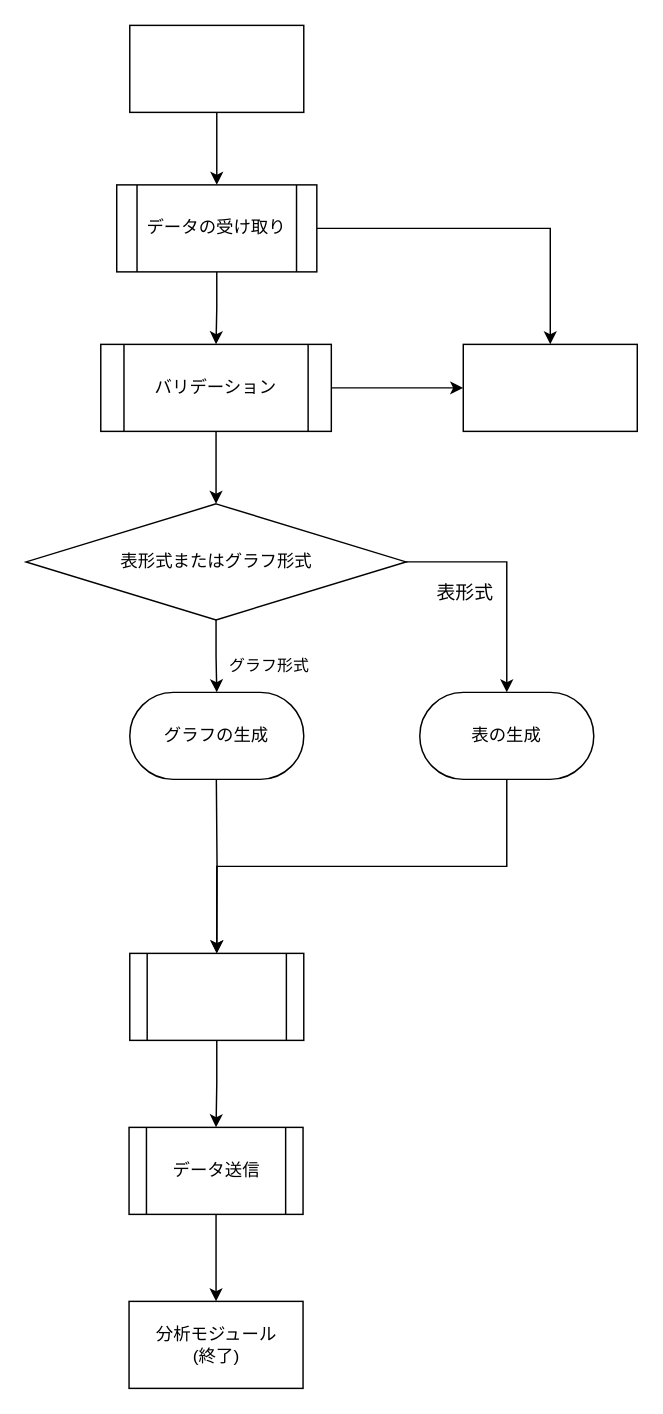
This 663x1414 diagram has some shape labels left out. Each missing label, with the centre of its shape:
"エラー終了" belongs at pixel 549 387.
"ページ遷移" belongs at pixel 216 996.
"分析モジュール (開始)" belongs at pixel 216 68.
